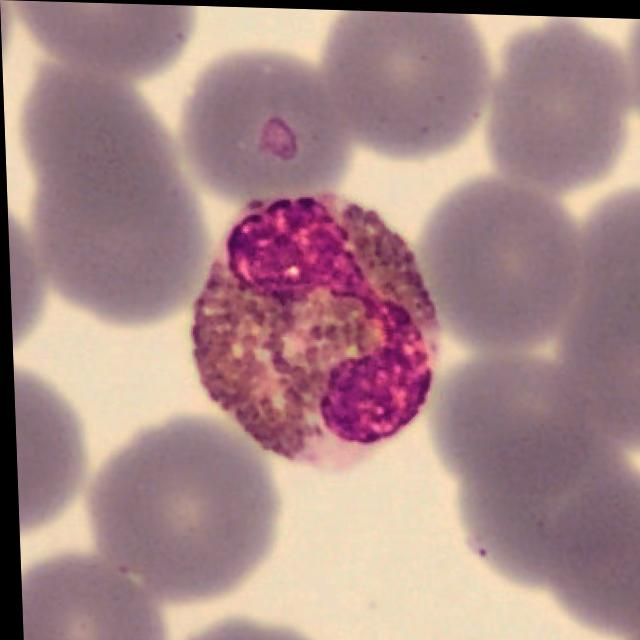Eosinofilo: (186, 190, 438, 470)
